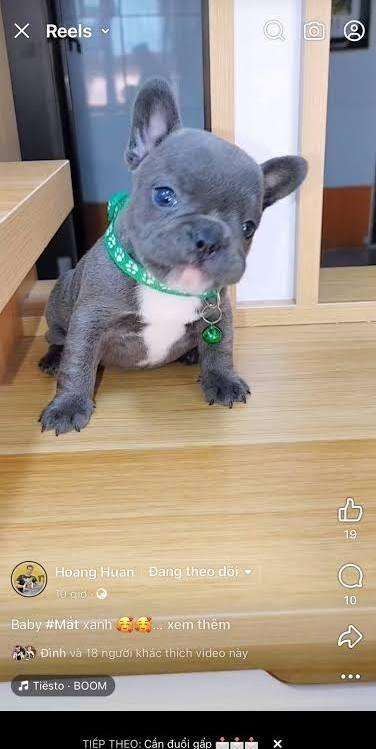puppy-dog: (36, 77, 310, 437)
